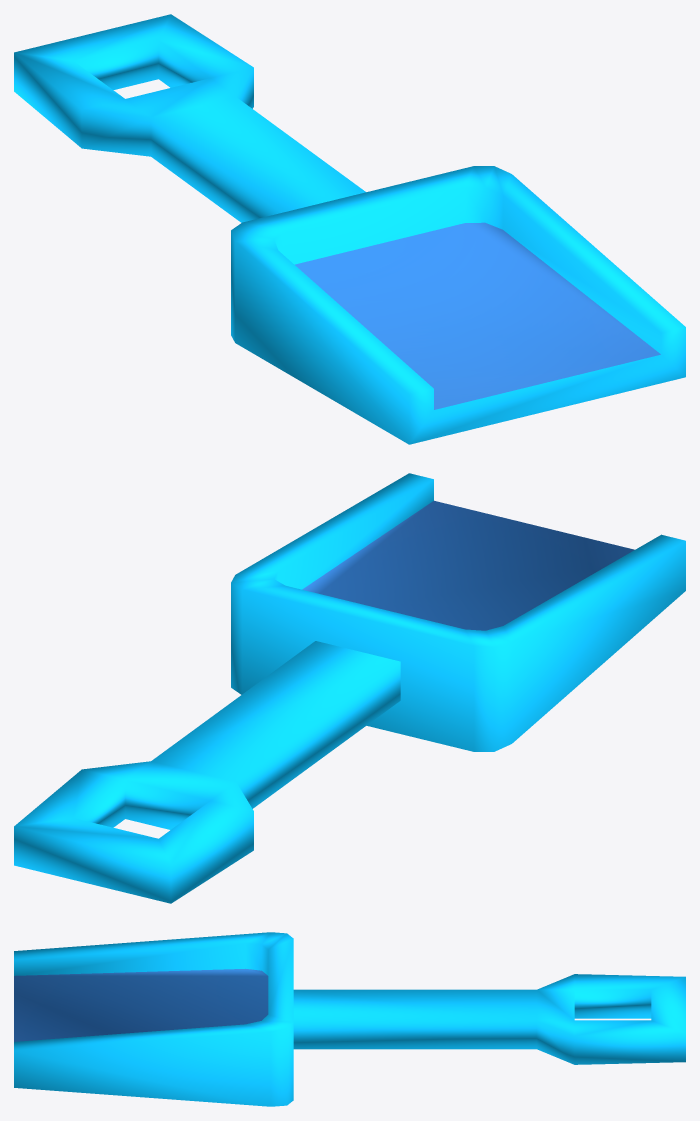
The model's file is BeachToyShovelBlue.glb.
3 views of the same model, one above another, from view 1: azimuth 30°, elevation 25°; view 2: azimuth 150°, elevation 25°; view 3: azimuth 270°, elevation 25° (orthographic). The views are drawn at different scales.
Parts seen in each view (by area): view 1: BeachToyShovelBlue; view 2: BeachToyShovelBlue; view 3: BeachToyShovelBlue.
Part boxes in pixels (<box>): BeachToyShovelBlue: <box>14,14,685,444</box>; BeachToyShovelBlue: <box>14,473,685,903</box>; BeachToyShovelBlue: <box>14,932,685,1106</box>.
Bounding box in the file's own units: 0.1813 × 0.0664 × 0.5164.
1 material, 1 textured.
